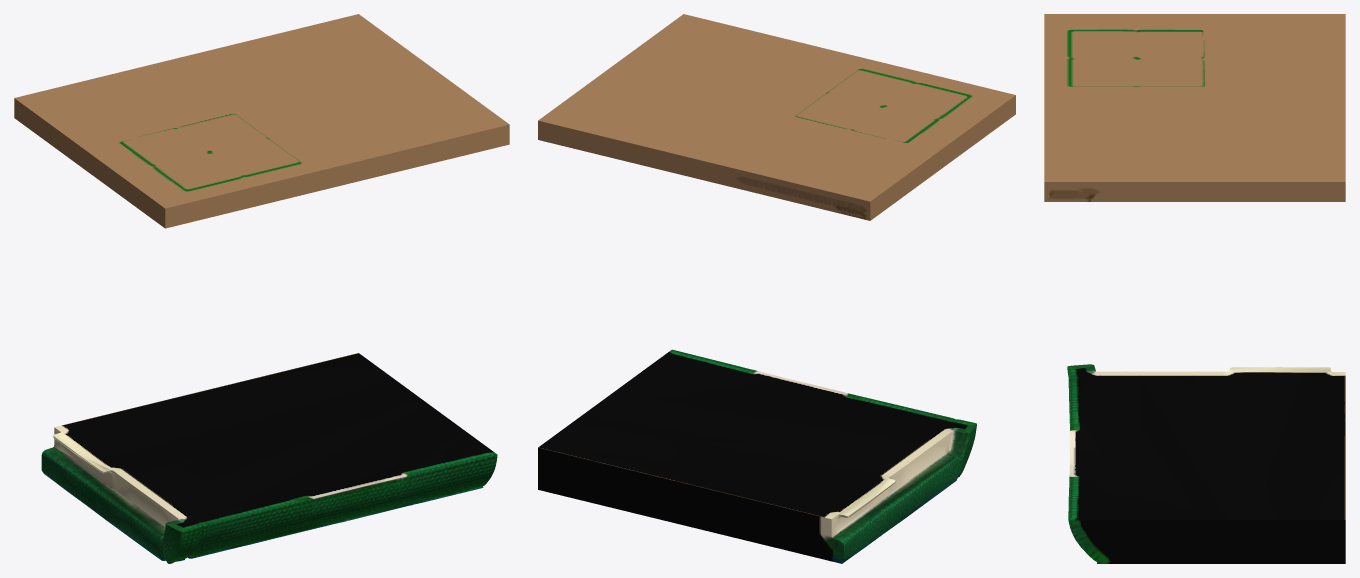
The model's file is 9-roof-front-left.fbx.
The picture shows the model from 3 angles, left to right: view 1: azimuth 30°, elevation 25°; view 2: azimuth 150°, elevation 25°; view 3: azimuth 270°, elevation 25°; orthographic projection. The views are drawn at different scales.
Parts seen in each view (by area): view 1: roof-front-left; view 2: roof-front-left; view 3: roof-front-left.
Part boxes in pixels (bbox=[...]): roof-front-left: bbox=[14, 14, 509, 563]; roof-front-left: bbox=[538, 14, 1015, 563]; roof-front-left: bbox=[1044, 14, 1345, 563].
Bounding box in the file's own units: 5403 × 5736 × 4102.
Materials: 1 (1 with a texture image).
